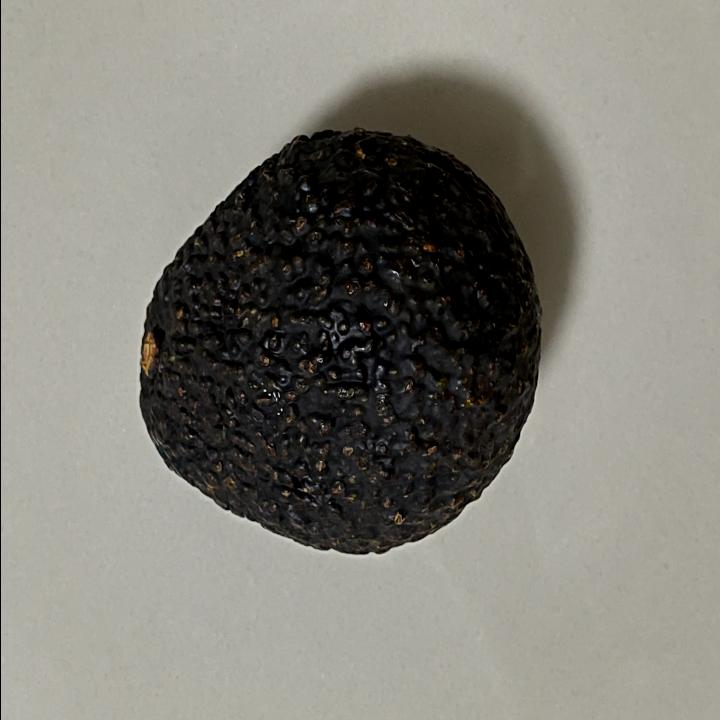Level2: (127, 114, 545, 566)
